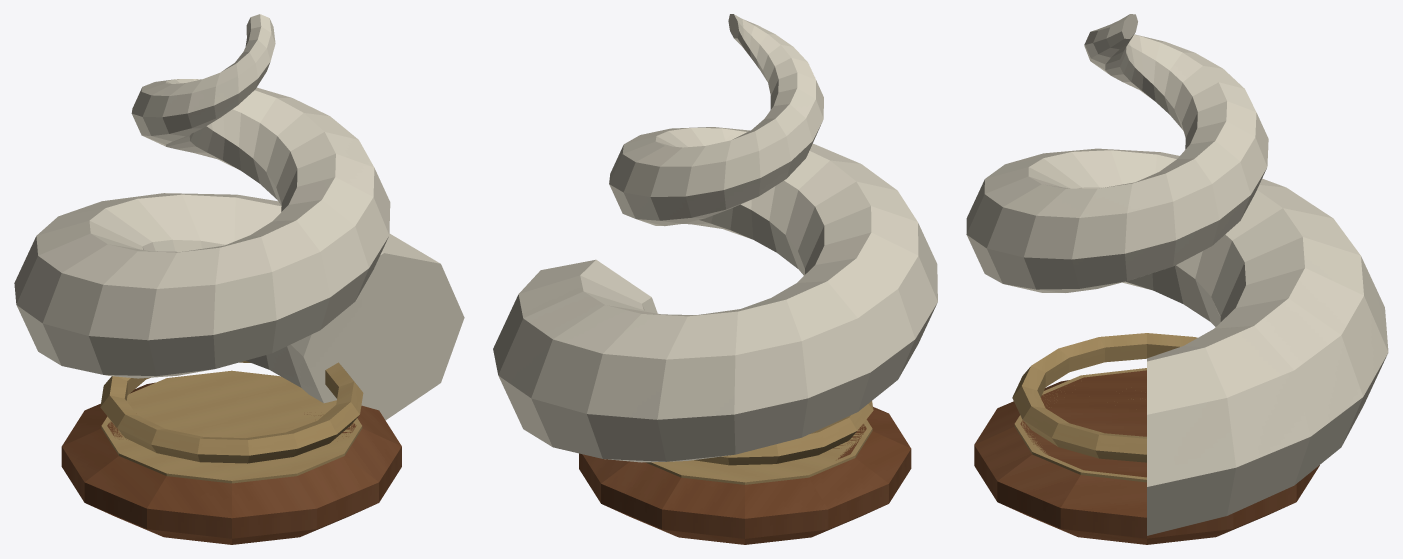
Rendered from AST-CUR-002.glb.
3 views of the same model, side by side, from view 1: azimuth 30°, elevation 25°; view 2: azimuth 150°, elevation 25°; view 3: azimuth 270°, elevation 25° (orthographic). The views are drawn at different scales.
Visible parts, largest first — view 1: CURIO_SpiralCeramic, CURIO_WeightedFoot, CURIO_BrassCollar, CURIO_SpecimenTrim; view 2: CURIO_SpiralCeramic, CURIO_WeightedFoot, CURIO_BrassCollar, CURIO_SpecimenTrim; view 3: CURIO_SpiralCeramic, CURIO_WeightedFoot, CURIO_SpecimenTrim, CURIO_BrassCollar.
Part boxes in pixels (x1=…): CURIO_SpiralCeramic: x1=14, y1=14, x2=464, y2=420; CURIO_WeightedFoot: x1=61, y1=382, x2=401, y2=544; CURIO_BrassCollar: x1=101, y1=370, x2=362, y2=483; CURIO_SpecimenTrim: x1=100, y1=361, x2=363, y2=463; CURIO_SpiralCeramic: x1=493, y1=14, x2=937, y2=462; CURIO_WeightedFoot: x1=579, y1=407, x2=911, y2=544; CURIO_BrassCollar: x1=645, y1=419, x2=872, y2=484; CURIO_SpecimenTrim: x1=694, y1=401, x2=873, y2=465; CURIO_SpiralCeramic: x1=966, y1=14, x2=1388, y2=535; CURIO_WeightedFoot: x1=974, y1=370, x2=1319, y2=544; CURIO_SpecimenTrim: x1=1012, y1=333, x2=1197, y2=462; CURIO_BrassCollar: x1=1014, y1=368, x2=1146, y2=482.
Bounding box in the file's own units: 0.4221 × 0.462 × 0.3663.
Materials: 3 (3 with a texture image).
